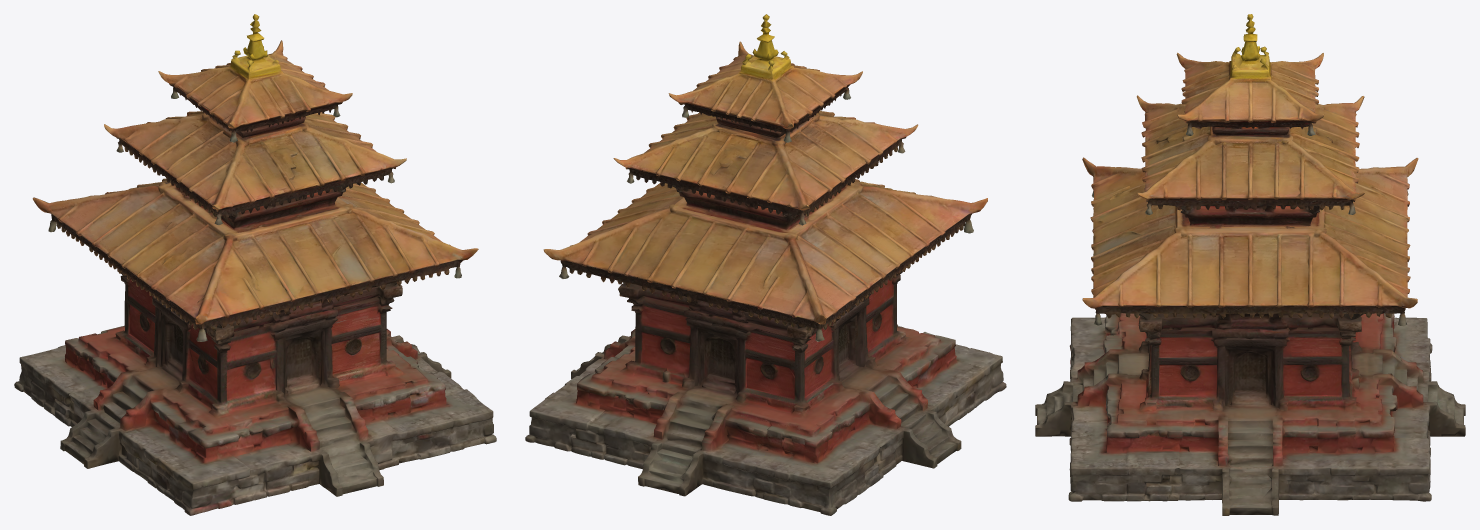
File: pagoda.glb
The picture shows the model from 3 angles, left to right: view 1: azimuth 30°, elevation 25°; view 2: azimuth 150°, elevation 25°; view 3: azimuth 270°, elevation 25°; orthographic projection. The views are drawn at different scales.
Parts seen in each view (by area): view 1: tripo_node_34e1df5a-d22a-4c84-a07b-fa8df50d6de7; view 2: tripo_node_34e1df5a-d22a-4c84-a07b-fa8df50d6de7; view 3: tripo_node_34e1df5a-d22a-4c84-a07b-fa8df50d6de7.
Boxes of the visible parts, bbox=[...] form: tripo_node_34e1df5a-d22a-4c84-a07b-fa8df50d6de7: bbox=[14, 14, 496, 515]; tripo_node_34e1df5a-d22a-4c84-a07b-fa8df50d6de7: bbox=[525, 14, 1006, 515]; tripo_node_34e1df5a-d22a-4c84-a07b-fa8df50d6de7: bbox=[1035, 14, 1465, 515].
Size of the model in its own units: 0.9519 by 1 by 0.9491.
1 material, 1 textured.
